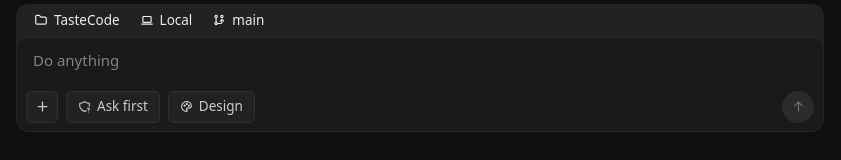
Test: Composer voice dictation › records, transcribes, and inserts at the cursor without sending
In the text box with placeholder "Do anything": (420, 62) x1=17 y1=38 x2=823 y2=86, type "hello world"
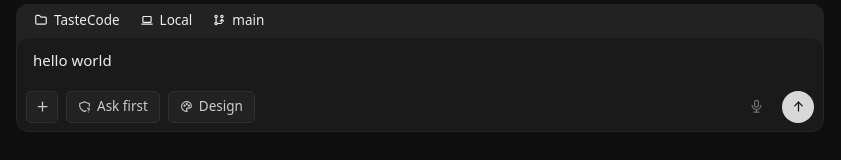
Click the button named "Record voice note": click(756, 107) x1=740 y1=91 x2=772 y2=123
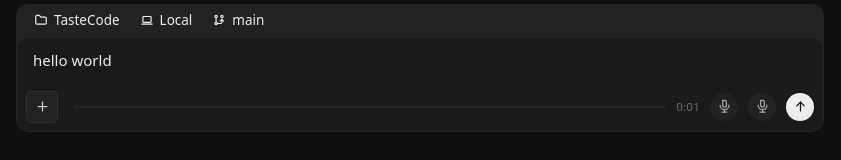
Click the button named "Stop and transcribe voice note": click(762, 107) x1=748 y1=93 x2=776 y2=121
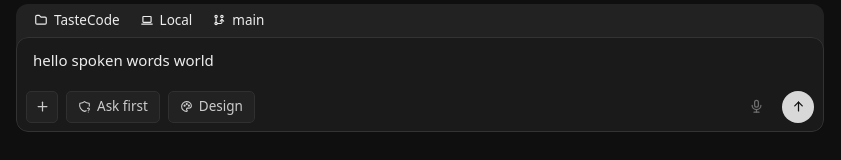
Result: the text box with placeholder "Do anything" holds "hello spoken words world" at x1=17 y1=38 x2=823 y2=86
